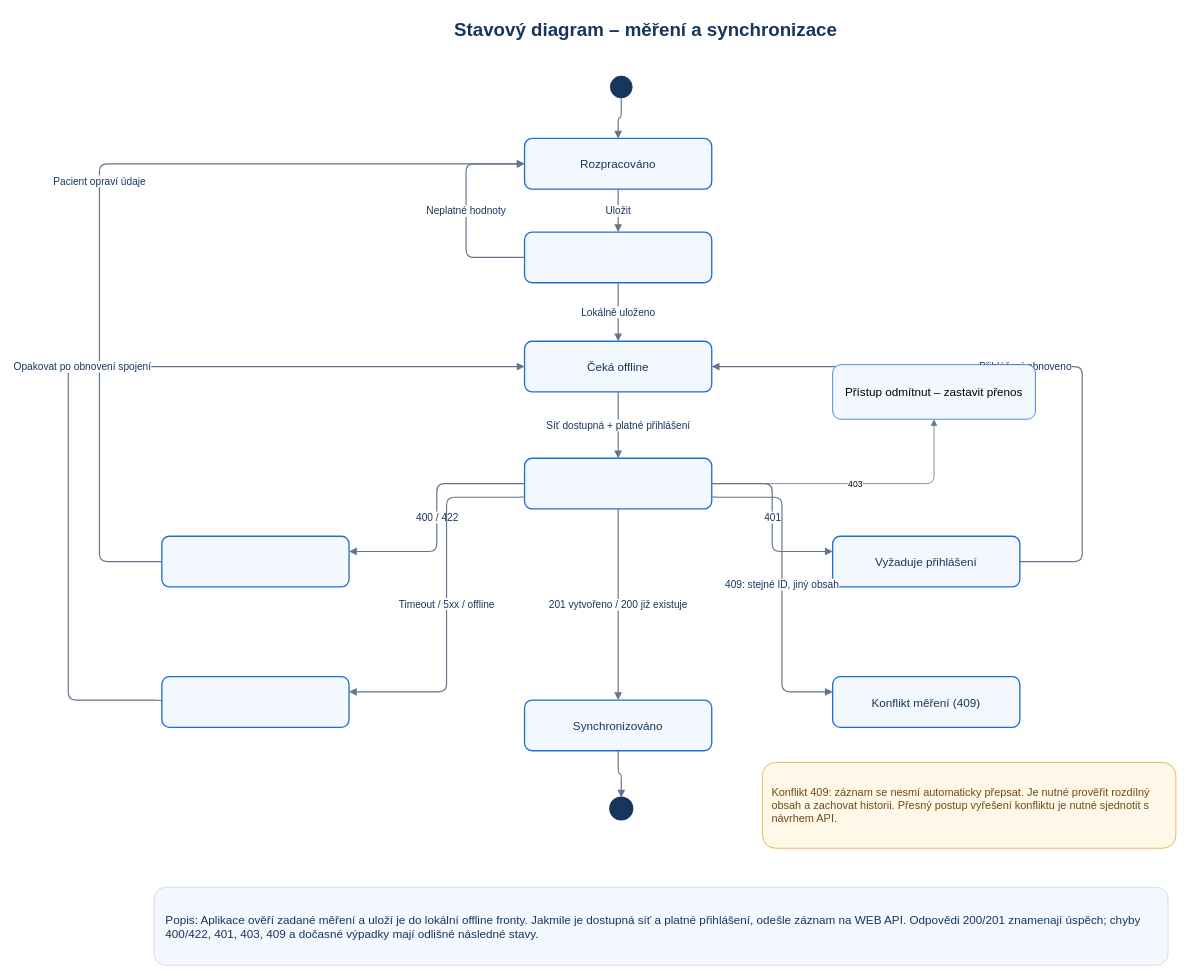
Some shapes in this 1190 by 979 pixel diagram are drawn without their labels. The shapes that lost their labels are listed below. From the top down, each one's box as (x1, y1, x2, y2) in pixels, then its label:
(524, 231, 712, 283): Validace měření
(524, 457, 712, 509): Odesílání na API
(161, 535, 349, 587): Chyba validace
(161, 676, 349, 728): Dočasná chyba přenosu
